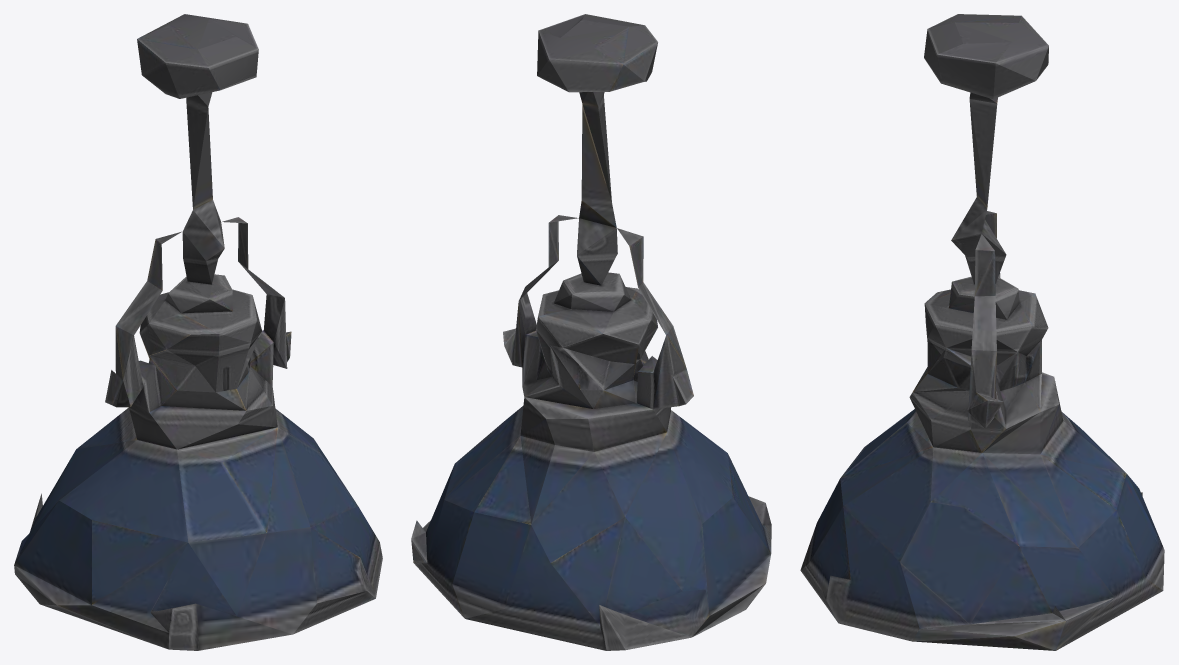
The model's file is luminaria_teto.glb.
3 views of the same model, side by side, from view 1: azimuth 30°, elevation 25°; view 2: azimuth 150°, elevation 25°; view 3: azimuth 270°, elevation 25° (orthographic).
Parts seen in each view (by area): view 1: Mesh_0; view 2: Mesh_0; view 3: Mesh_0.
Boxes of the visible parts, bbox=[...] form: Mesh_0: bbox=[14, 14, 382, 650]; Mesh_0: bbox=[411, 14, 771, 650]; Mesh_0: bbox=[800, 14, 1164, 650].
Size of the model in its own units: 0.3027 by 0.5 by 0.3012.
Materials: 1 (1 with a texture image).
